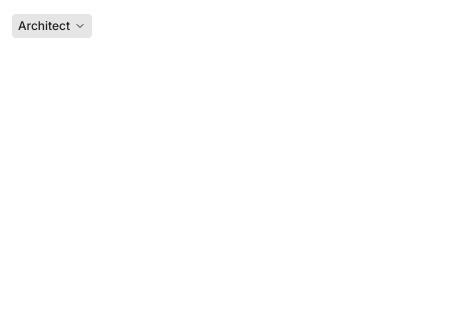
it: ArchetypeSelector › shows all archetypes when "Show all" is clicked
Click the button with test id "archetype-selector". click: x=52, y=26
box: [12,14,92,38]
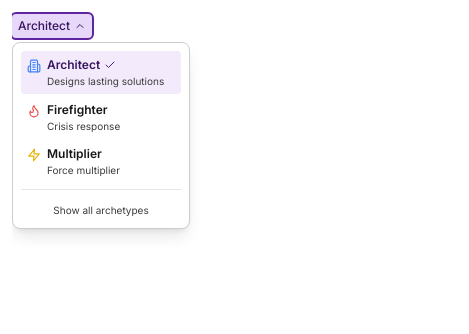
Click the button "Show all archetypes". click: x=101, y=210
box: [21,200,181,220]
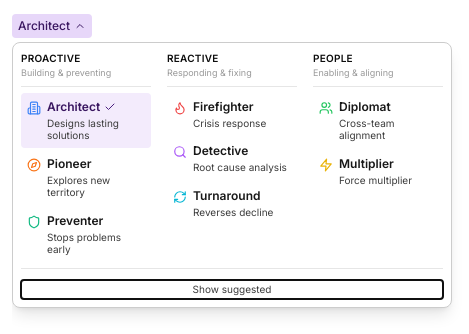
Expected: the text "Pioneer" is shown, [47,156,92,172]
Expected: the text "Detective" is shown, [193,143,248,159]
Expected: the text "Diplomat" is shown, [339,98,391,114]
